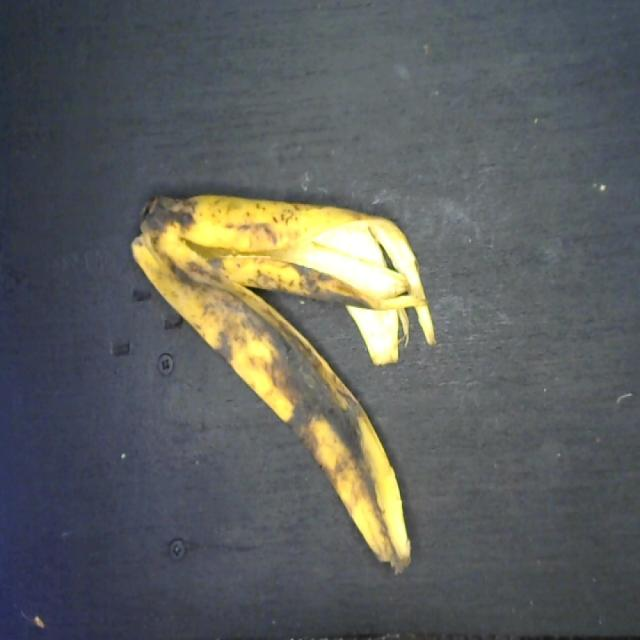biodegradable: (125, 180, 438, 584)
